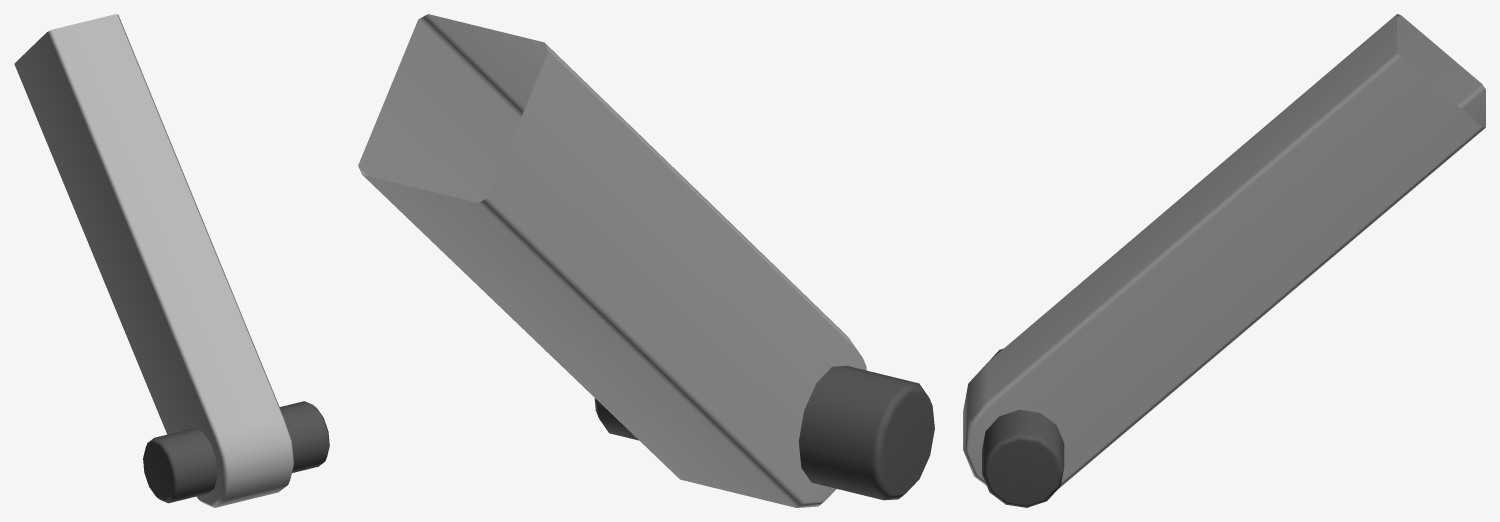
The model's file is obstacle_8_003.fbx.
3 renders of one model, left to right at view 1: azimuth 30°, elevation 25°; view 2: azimuth 150°, elevation 25°; view 3: azimuth 270°, elevation 25°, orthographic. The views are drawn at different scales.
Visible parts, largest first — view 1: obstacle_8_003; view 2: obstacle_8_003; view 3: obstacle_8_003.
Boxes of the visible parts, left/top/right/bottom form: obstacle_8_003: left=14, top=14, right=329, bottom=507; obstacle_8_003: left=358, top=14, right=934, bottom=507; obstacle_8_003: left=963, top=14, right=1485, bottom=507.
Bounding box in the file's own units: 240 × 561 × 529.
